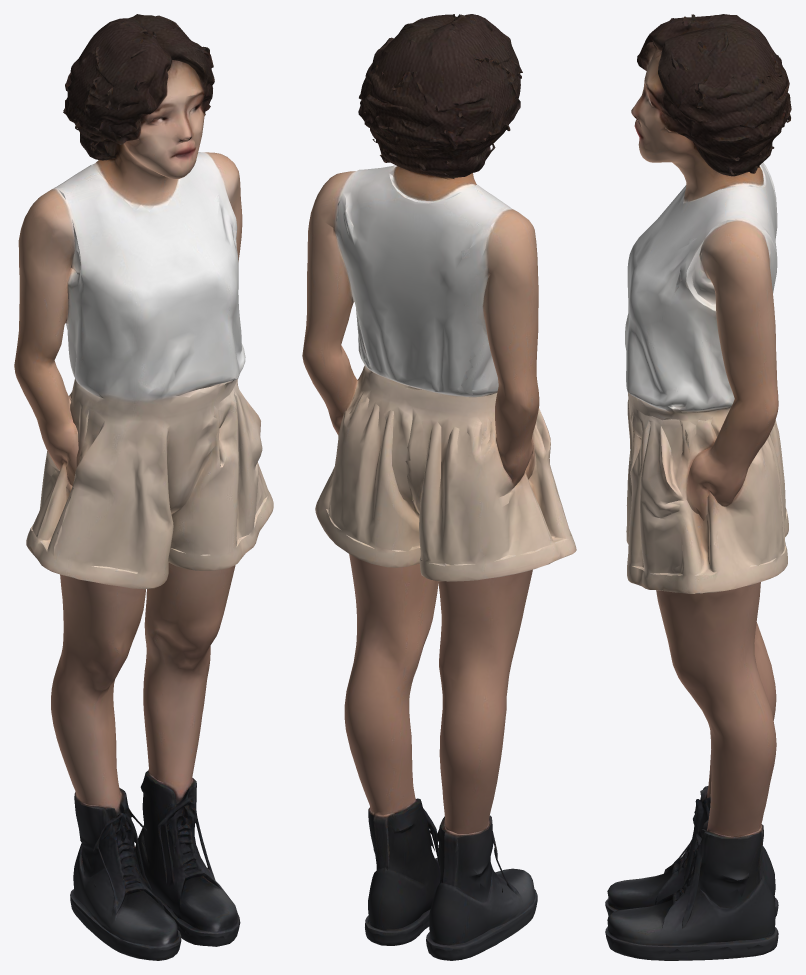
Rendered from person_05.glb.
3 views of the same model, side by side, from view 1: azimuth 30°, elevation 25°; view 2: azimuth 150°, elevation 25°; view 3: azimuth 270°, elevation 25° (orthographic).
Visible parts, largest first — view 1: Mesh; view 2: Mesh; view 3: Mesh.
Part boxes in pixels (<box>): Mesh: <box>14,14,273,960</box>; Mesh: <box>302,14,576,960</box>; Mesh: <box>605,14,791,960</box>.
Size of the model in its own units: 0.5222 by 1.89 by 0.3506.
Materials: 1 (1 with a texture image).
